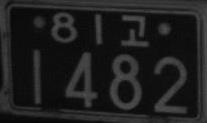1: (22, 50, 54, 104), (86, 14, 110, 43)
2: (154, 55, 187, 114)
4: (66, 51, 98, 107)
8: (108, 52, 142, 110), (50, 11, 77, 44)
고: (119, 14, 148, 47)
